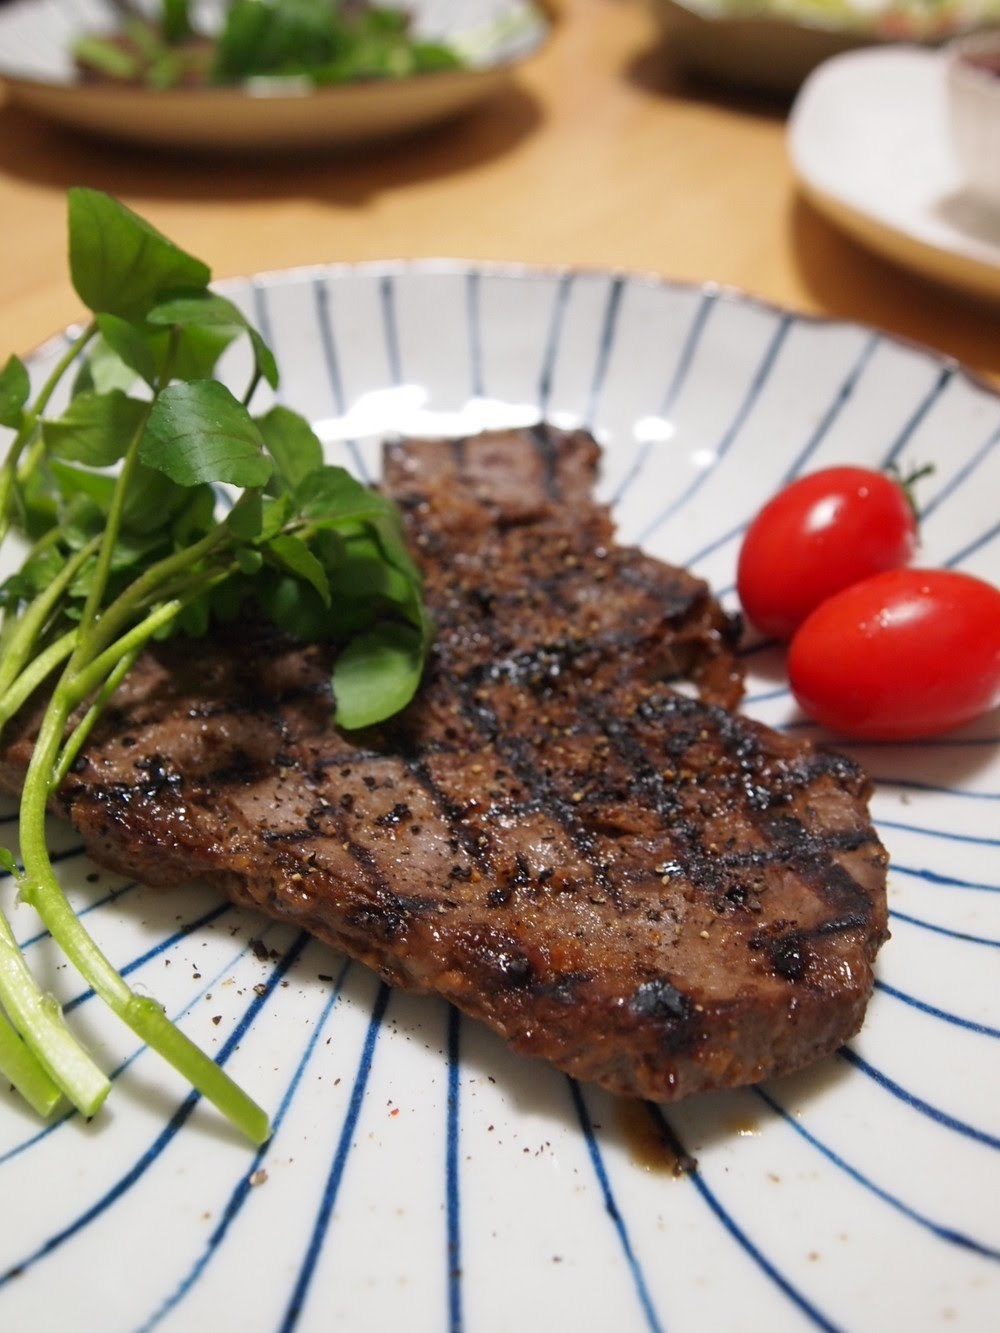background: (116, 0, 733, 193)
